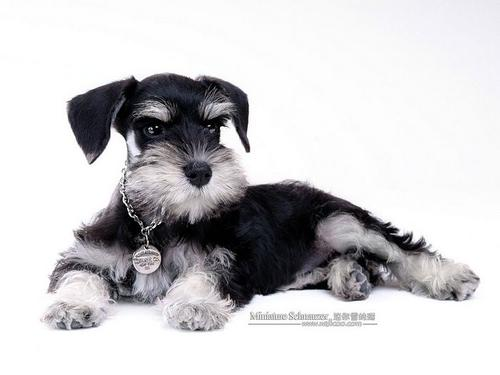dog: (66, 71, 254, 229)
